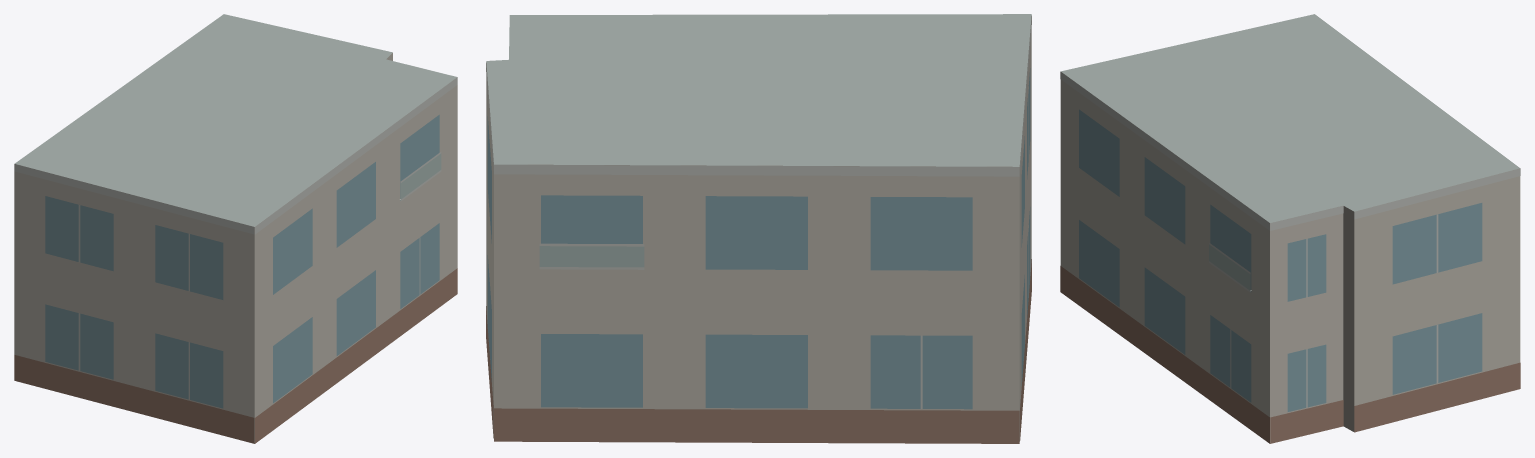
File: survey-upis-32485631.glb
3 renders of one model, left to right at view 1: azimuth 30°, elevation 25°; view 2: azimuth 150°, elevation 25°; view 3: azimuth 270°, elevation 25°, orthographic. The views are drawn at different scales.
Visible parts, largest first — view 1: survey-upis-32485631.tmp; view 2: survey-upis-32485631.tmp; view 3: survey-upis-32485631.tmp.
Part boxes in pixels (left/top/right/bottom): survey-upis-32485631.tmp: left=14, top=14, right=457, bottom=443; survey-upis-32485631.tmp: left=486, top=14, right=1031, bottom=443; survey-upis-32485631.tmp: left=1060, top=14, right=1520, bottom=443.
Size of the model in its own units: 14.03 by 6.9 by 13.04.
